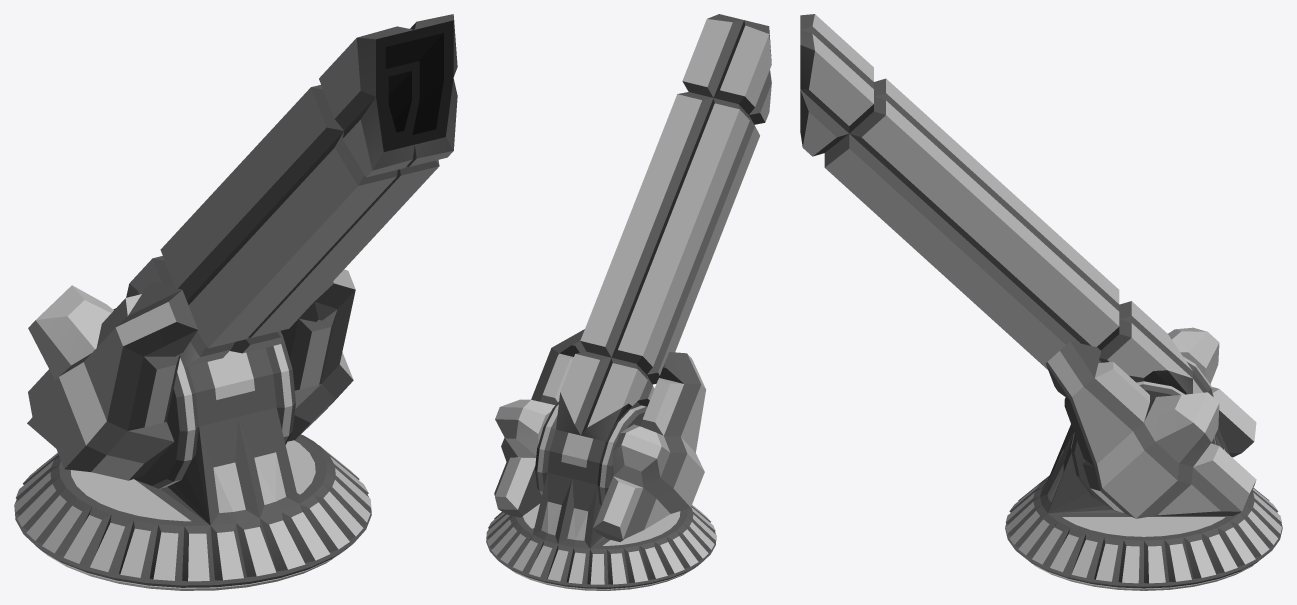
The model's file is HAT-390_ArtilleryNeck.dae.
3 views of the same model, side by side, from view 1: azimuth 30°, elevation 25°; view 2: azimuth 150°, elevation 25°; view 3: azimuth 270°, elevation 25° (orthographic). The views are drawn at different scales.
Visible parts, largest first — view 1: HAT-390_ArtilleryNeck; view 2: HAT-390_ArtilleryNeck; view 3: HAT-390_ArtilleryNeck.
Part boxes in pixels (<box>): HAT-390_ArtilleryNeck: <box>14,14,457,590</box>; HAT-390_ArtilleryNeck: <box>486,14,771,590</box>; HAT-390_ArtilleryNeck: <box>800,14,1282,590</box>.
Size of the model in its own units: 4 by 6.95 by 8.04.
